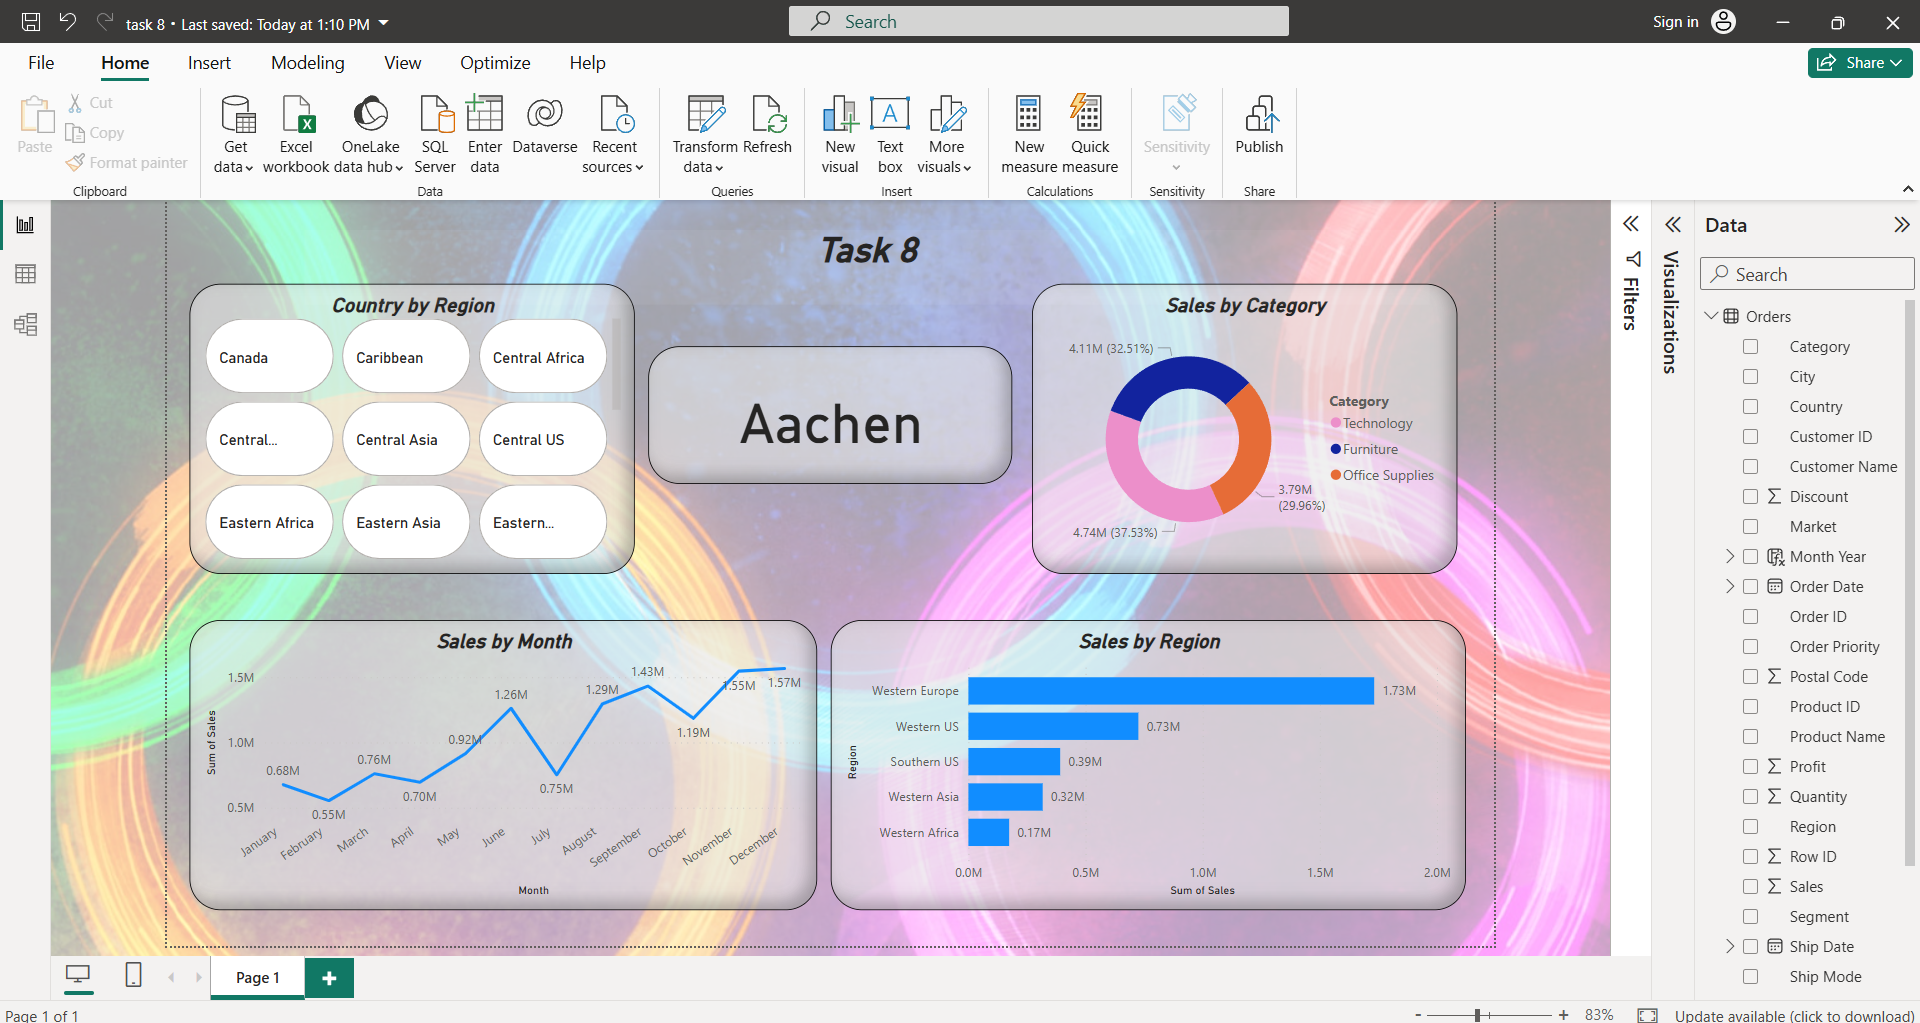

The dashboard page shown, as its layout file describes it:
{"tool":"powerbi","page":{"name":"Page 1","canvas":[1280,720],"ordinal":0},"visuals":[{"type":"lineChart","title":"Sales by Month","fields":{"Category":["Orders.Month Year.Variation.Date Hierarchy.Month"],"Y":["Sum(Orders.Sales)"]},"box":[21.7,405.2,605.4,279.8],"z":0},{"type":"barChart","title":"Sales by Region","fields":{"Y":["Sum(Orders.Sales)"],"Category":["Orders.Region"]},"box":[640.4,405.2,612.7,279.8],"z":1},{"type":"donutChart","title":"Sales by Category","fields":{"Y":["Sum(Orders.Sales)"],"Category":["Orders.Category"]},"box":[834.6,80.8,410.1,279.8],"z":2},{"type":"advancedSlicerVisual","title":"Country by Region","fields":{"Values":["Orders.Region"]},"box":[21.7,80.8,429.3,279.8],"z":3},{"type":"textbox","title":"Task 8","box":[132.7,28.9,1085.4,72.4],"z":4},{"type":"card","fields":{"Values":["Min(Orders.City)"]},"box":[464.3,141.1,351,132.7],"z":5}]}

Visuals, with their boxes on the page's 1280x720 design canvas (x1, y1, x2, y2). These are canvas units, not pixel positions in the 1920x1023 screenshot, which may show the page scaled, cropped or inside an application window:
"Sales by Month" lineChart: x1=22 y1=405 x2=627 y2=685
"Sales by Region" barChart: x1=640 y1=405 x2=1253 y2=685
"Sales by Category" donutChart: x1=835 y1=81 x2=1245 y2=361
"Country by Region" advancedSlicerVisual: x1=22 y1=81 x2=451 y2=361
"Task 8" textbox: x1=133 y1=29 x2=1218 y2=101
card - Min(Orders.City): x1=464 y1=141 x2=815 y2=274
